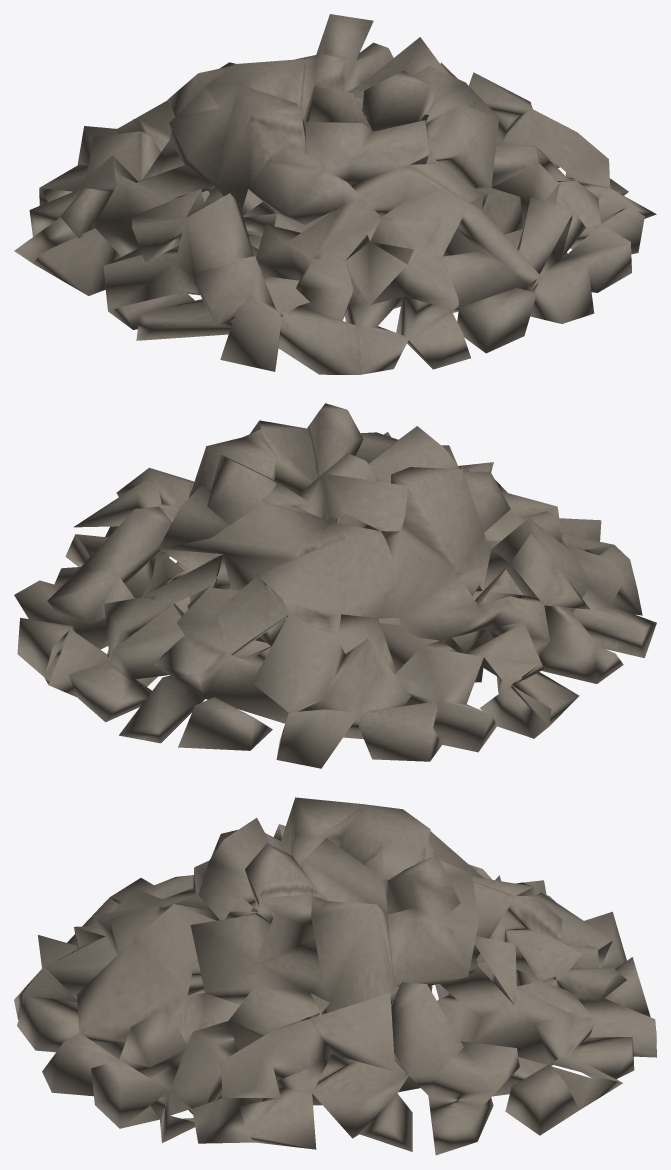
File: prp_rock_rubble_a.glb
3 views of the same model, one above another, from view 1: azimuth 30°, elevation 25°; view 2: azimuth 150°, elevation 25°; view 3: azimuth 270°, elevation 25° (orthographic). The views are drawn at different scales.
Visible parts, largest first — view 1: prp_rock_rubble_a; view 2: prp_rock_rubble_a; view 3: prp_rock_rubble_a.
Part boxes in pixels (left/top/right/bottom): prp_rock_rubble_a: left=14, top=14, right=656, bottom=374; prp_rock_rubble_a: left=14, top=403, right=656, bottom=768; prp_rock_rubble_a: left=14, top=797, right=656, bottom=1155.
Bounding box in the file's own units: 4.56 × 1.6 × 4.7.
Materials: 1 (1 with a texture image).
